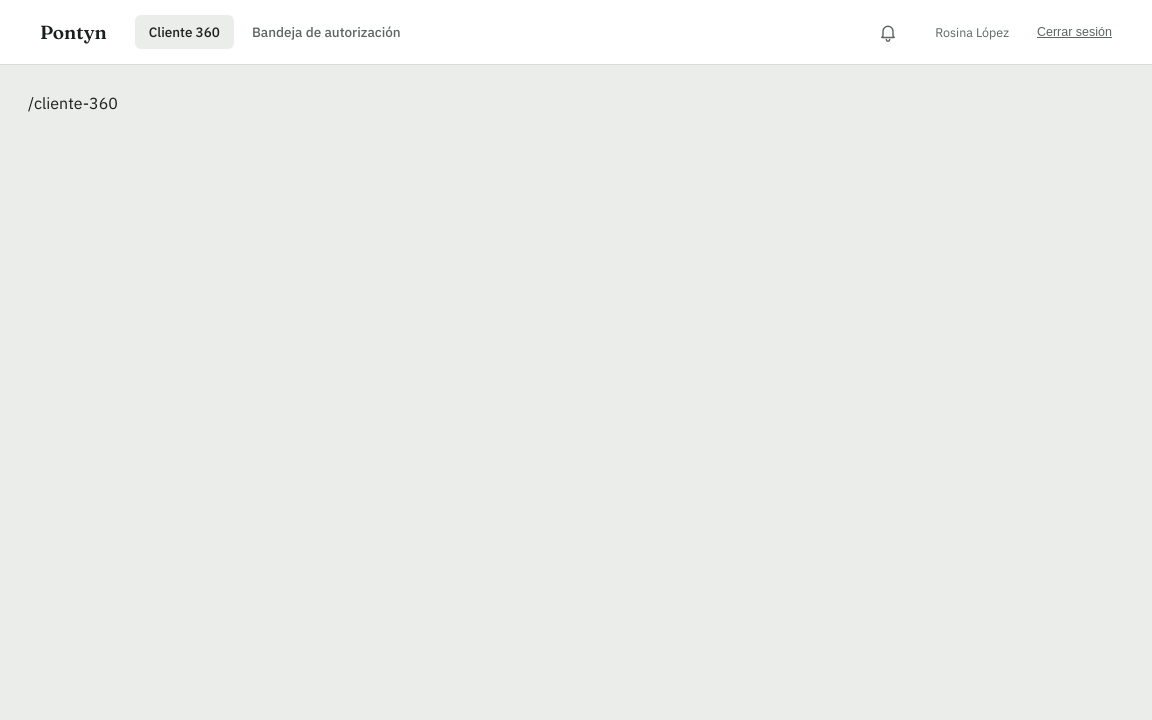
Test: AppShell — campana de alertas › 'Ver pedido' marca la alerta como vista y navega a la Bandeja con el pedido
This screenshot has width=1152, height=720.
Click the button named "Alertas" at x=888, y=32, box [869,13,907,51]
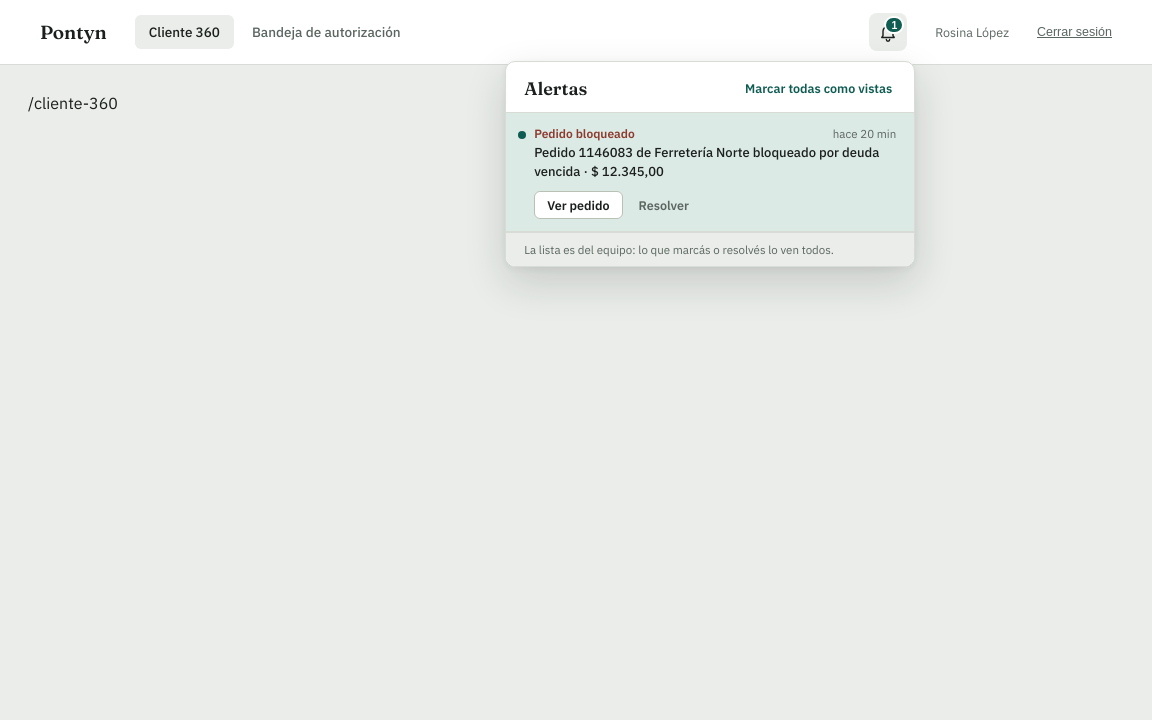
Expected: the text "Ferretería Norte" is shown, [534,144,879,180]
Click the button "Ver pedido" at x=578, y=205, box [534,191,622,219]
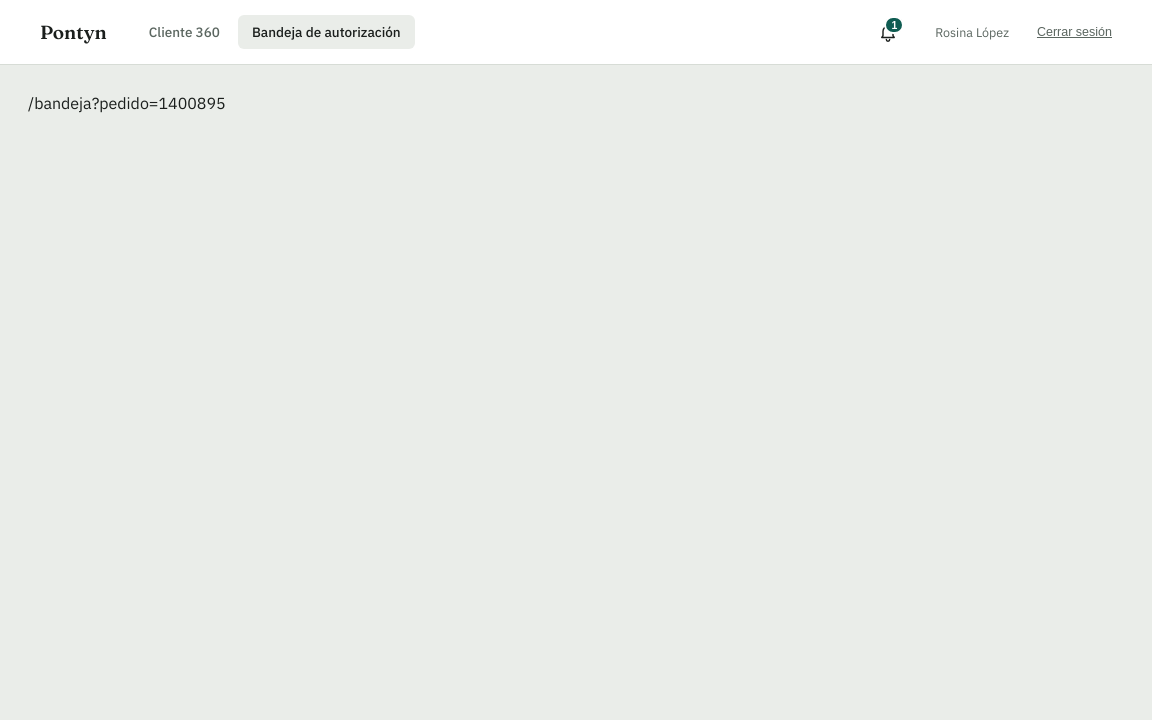
Expected: the text with test id "ubicacion" reads "/bandeja?pedido=1400895", [28,93,226,113]
Expected: the dialog is gone
